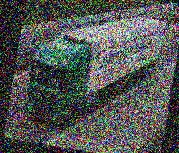truck: (19, 0, 171, 145)
